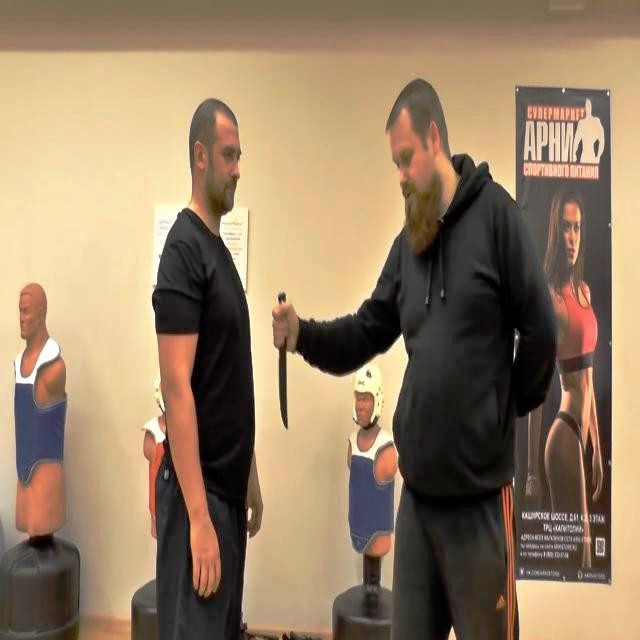Knife: (269, 287, 306, 436)
